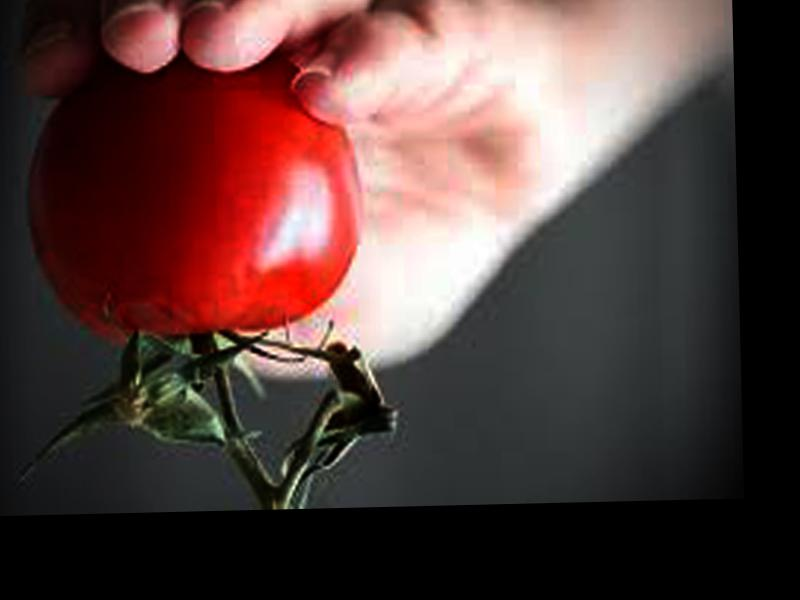Tomato: (24, 51, 362, 350)
